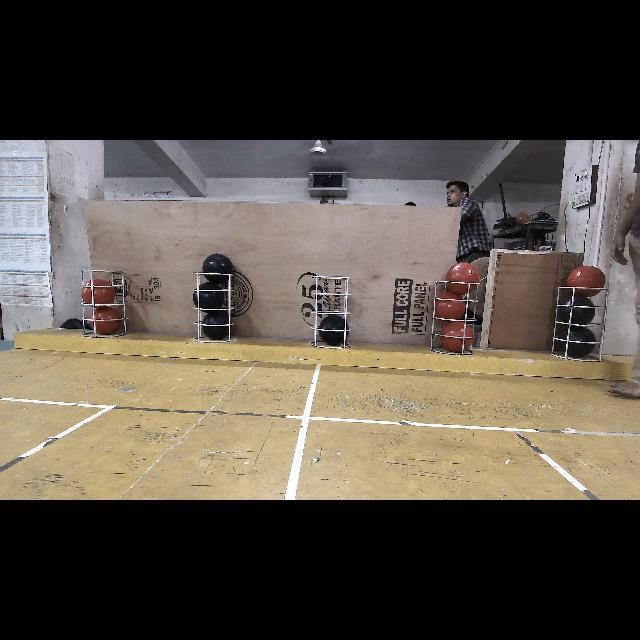P: (559, 294, 597, 328), (560, 325, 598, 357), (194, 282, 226, 312), (318, 315, 349, 345), (202, 254, 232, 284), (202, 312, 232, 340)
R: (82, 278, 120, 310), (445, 262, 480, 295), (440, 321, 476, 353), (568, 265, 605, 296), (434, 292, 466, 320), (90, 308, 124, 334)
S: (550, 282, 606, 368), (75, 266, 135, 344), (428, 278, 487, 356), (192, 268, 238, 344), (313, 274, 352, 350)
